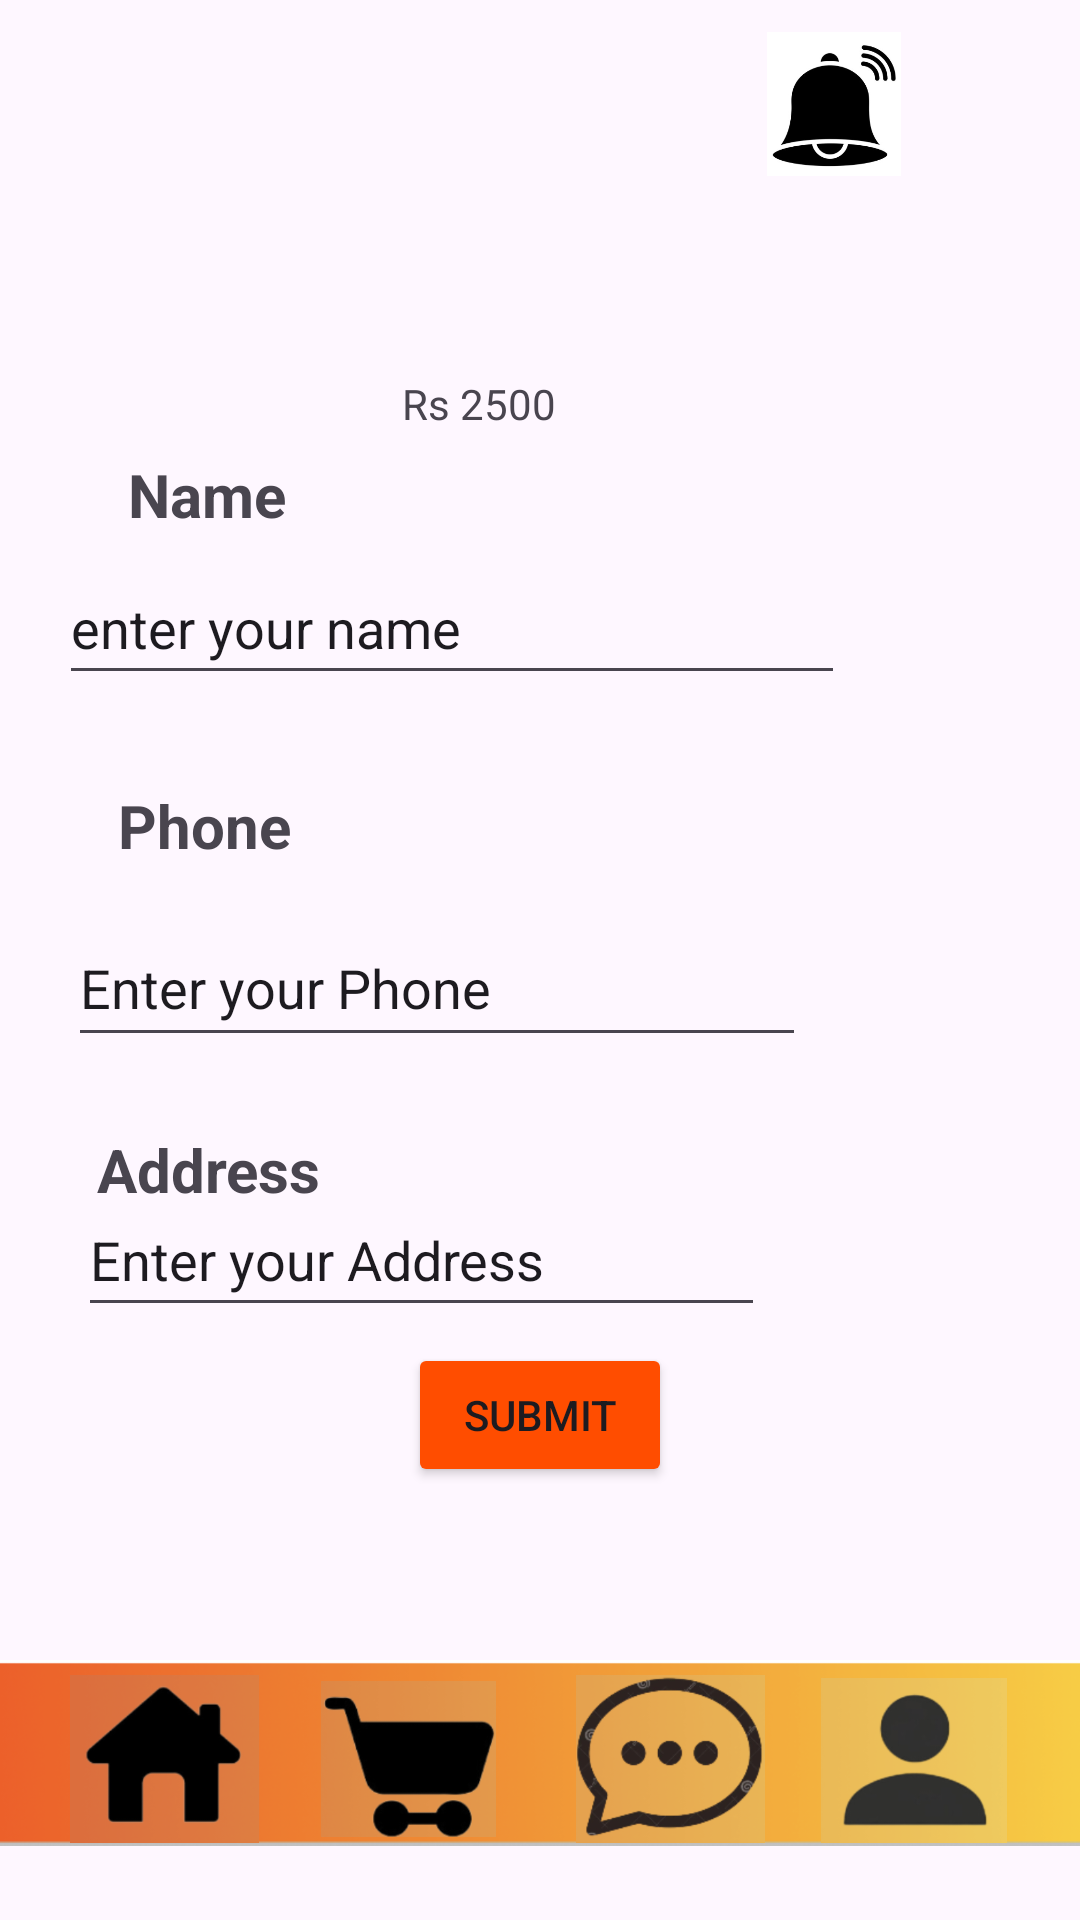

Where to tap for icons on this 1080×1920 app screen, as [x,y]:
go to account page: [914,1760]
go to cart page: [384,1759]
go to chat page: [670,1759]
go to home page: [164,1759]
go to notification page: [834,105]
